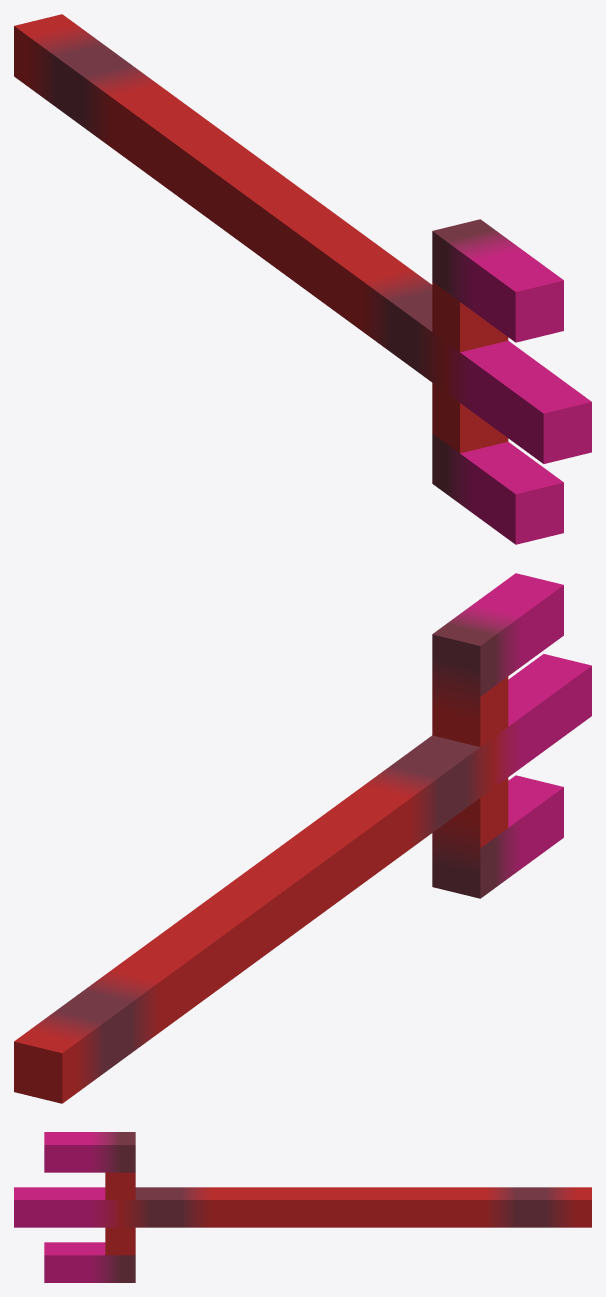
File: weapon_trident.fbx
3 renders of one model, top to bottom at view 1: azimuth 30°, elevation 25°; view 2: azimuth 150°, elevation 25°; view 3: azimuth 270°, elevation 25°, orthographic. The views are drawn at different scales.
Parts seen in each view (by area): view 1: weapon_trident; view 2: weapon_trident; view 3: weapon_trident.
Part boxes in pixels (box(x1,y1,x2,y2)): weapon_trident: box(14, 14, 591, 544); weapon_trident: box(14, 573, 591, 1103); weapon_trident: box(14, 1132, 591, 1282).
Bounding box in the file's own units: 1 × 5 × 19.
1 material, 1 textured.
